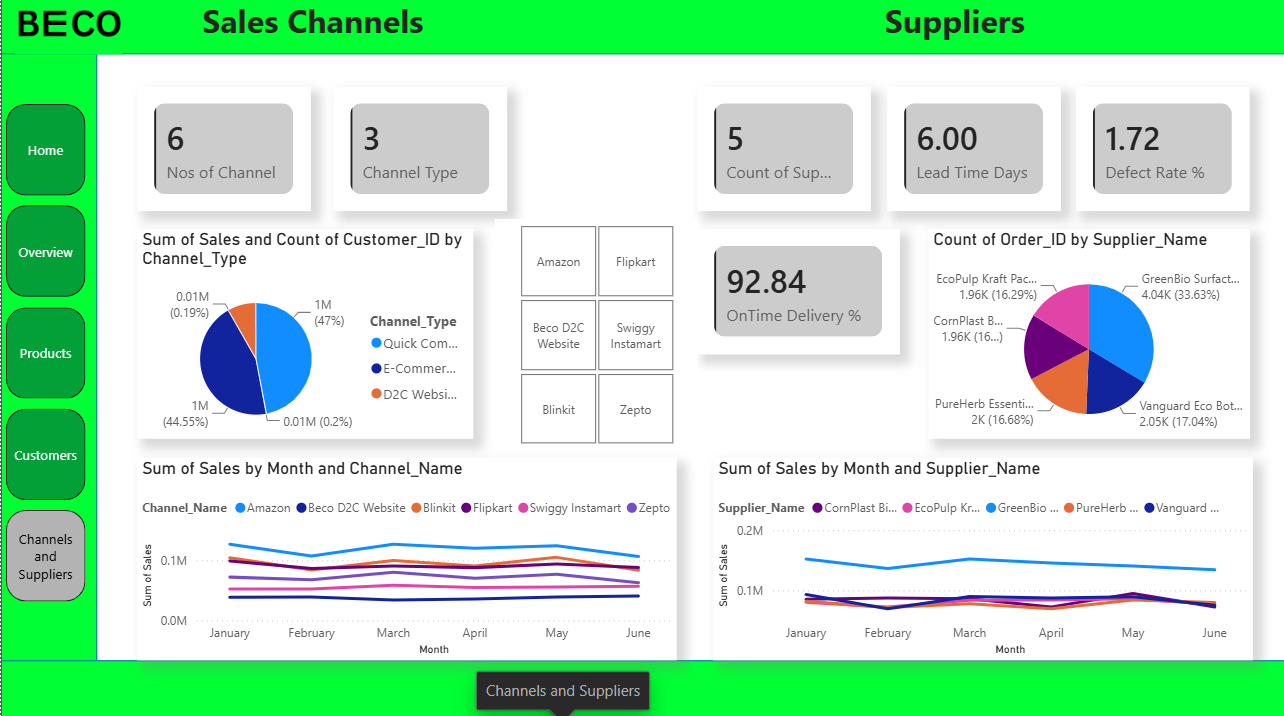

What the dashboard file says about the page in this screenshot:
{"tool":"powerbi","page":{"name":"Channels and Suppliers ","canvas":[1280,720],"ordinal":4},"visuals":[{"type":"cardVisual","fields":{"Data":["Count(Dim_Channels.Channel_ID)"]},"box":[135.8,92.7,172.9,124.3],"z":0},{"type":"cardVisual","fields":{"Data":["Count(Dim_Channels.Channel_Type)"]},"box":[330.9,92.1,172.9,124.3],"z":1000},{"type":"shape","box":[0,0,75.5,720.4],"z":2000},{"type":"shape","box":[-0.1,0,1280,60],"z":3000},{"type":"shape","box":[-0.1,662.9,1280,57.1],"z":4000},{"type":"pieChart","fields":{"Category":["Dim_Channels.Channel_Type"],"Y":["Sum(Fact_Sales.Sales)","CountNonNull(Fact_Sales.Customer_ID)"]},"box":[135.6,233.9,334.6,209],"z":5000},{"type":"lineChart","fields":{"Category":["Fact_Sales.Order_Date.Variation.Date Hierarchy.Month"],"Series":["Dim_Channels.Channel_Name"],"Y":["Sum(Fact_Sales.Sales)"]},"box":[135.8,461.1,536.5,201.7],"z":6000},{"type":"cardVisual","fields":{"Data":["Count(Dim_Suppliers.Supplier_ID)"]},"box":[692.9,92.1,172.9,124.3],"z":7000},{"type":"cardVisual","fields":{"Data":["Avg(Dim_Suppliers.Lead_Time_Days)"]},"box":[882.3,91.9,172.9,124.3],"z":8000},{"type":"cardVisual","fields":{"Data":["Avg(Dim_Suppliers.On_Time_Delivery_Rate)"]},"box":[692.9,233.9,201.7,124.9],"z":9000},{"type":"cardVisual","fields":{"Data":["Avg(Dim_Suppliers.Defect_Rate_Pct)"]},"box":[1069.8,92.1,172.9,124.3],"z":10000},{"type":"slicer","fields":{"Values":["Dim_Channels.Channel_Name"]},"box":[491.4,223.9,201.7,230.5],"z":11000},{"type":"pieChart","fields":{"Category":["Dim_Suppliers.Supplier_Name","Dim_Suppliers.Sourcing_Category"],"Y":["CountNonNull(Fact_Sales.Order_ID)"]},"box":[923,233.9,319.7,209],"z":12000},{"type":"lineChart","fields":{"Category":["Fact_Sales.Order_Date.Variation.Date Hierarchy.Month"],"Series":["Dim_Suppliers.Supplier_Name"],"Y":["Sum(Fact_Sales.Sales)"]},"box":[709.4,461.1,536.5,201.7],"z":13000},{"type":"pageNavigator","box":[5,109.5,65.9,497.6],"z":14000},{"type":"image","box":[0,0,294.8,59.7],"z":15000}]}

Visuals, with their boxes on the page's 1280x720 design canvas (x1, y1, x2, y2). These are canvas units, not pixel positions in the 1284x716 screenshot, which may show the page scaled, cropped or inside an application window:
cardVisual - Count(Dim_Channels.Channel_ID): region(136, 93, 309, 217)
cardVisual - Count(Dim_Channels.Channel_Type): region(331, 92, 504, 216)
shape: region(0, 0, 76, 720)
shape: region(0, 0, 1280, 60)
shape: region(0, 663, 1280, 720)
pieChart - Dim_Channels.Channel_Type x Sum(Fact_Sales.Sales): region(136, 234, 470, 443)
lineChart - Fact_Sales.Order_Date.Variation.Date Hierarchy.Month x Dim_Channels.Channel_Name: region(136, 461, 672, 663)
cardVisual - Count(Dim_Suppliers.Supplier_ID): region(693, 92, 866, 216)
cardVisual - Avg(Dim_Suppliers.Lead_Time_Days): region(882, 92, 1055, 216)
cardVisual - Avg(Dim_Suppliers.On_Time_Delivery_Rate): region(693, 234, 895, 359)
cardVisual - Avg(Dim_Suppliers.Defect_Rate_Pct): region(1070, 92, 1243, 216)
slicer - Dim_Channels.Channel_Name: region(491, 224, 693, 454)
pieChart - Dim_Suppliers.Supplier_Name x Dim_Suppliers.Sourcing_Category: region(923, 234, 1243, 443)
lineChart - Fact_Sales.Order_Date.Variation.Date Hierarchy.Month x Dim_Suppliers.Supplier_Name: region(709, 461, 1246, 663)
pageNavigator: region(5, 110, 71, 607)
image: region(0, 0, 295, 60)
